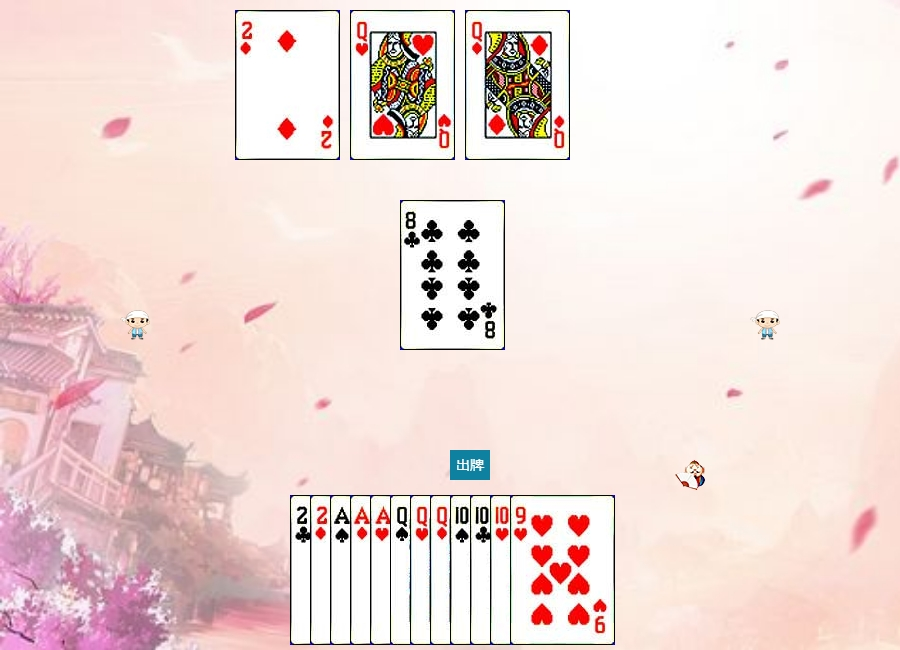10~2: (470, 495, 575, 645)
10~3: (490, 495, 595, 645)
10~4: (450, 495, 555, 645)
12~1: (465, 10, 570, 160), (430, 495, 535, 645)
12~3: (350, 10, 455, 160), (410, 495, 515, 645)
12~4: (390, 495, 495, 645)
14~1: (350, 495, 455, 645)
14~3: (370, 495, 475, 645)
14~4: (330, 495, 435, 645)
15~1: (235, 10, 340, 160), (310, 495, 415, 645)
15~2: (290, 495, 395, 645)
8~2: (400, 200, 505, 350)
9~3: (510, 495, 615, 645)
